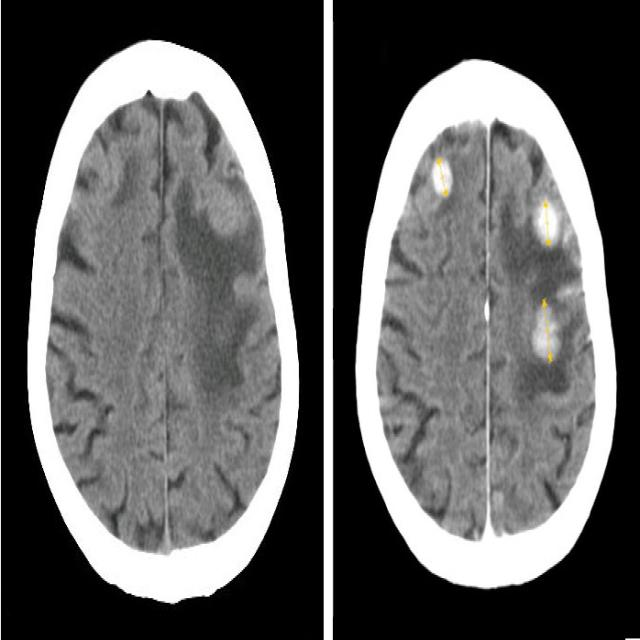Tumor: (533, 293, 562, 366), (536, 197, 560, 245), (431, 156, 454, 197)
